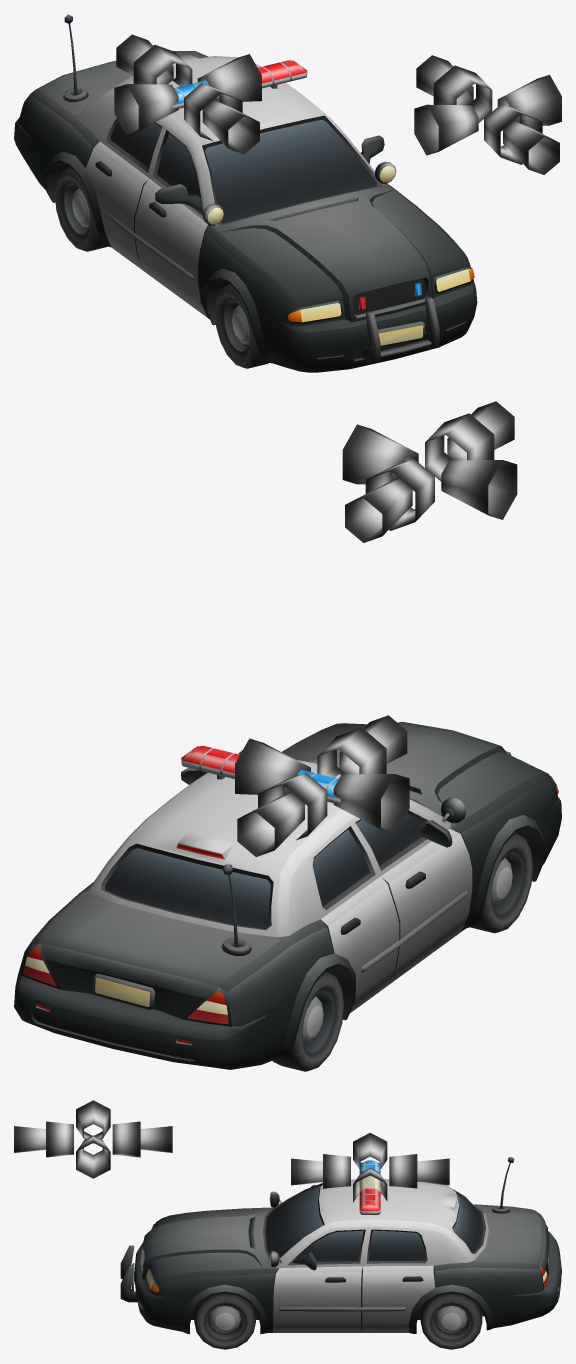
The model's file is Car_8D.fbx.
3 views of the same model, one above another, from view 1: azimuth 30°, elevation 25°; view 2: azimuth 150°, elevation 25°; view 3: azimuth 270°, elevation 25° (orthographic). The views are drawn at different scales.
Visible parts, largest first — view 1: Car_8D, Light_Red, Light_Blue, Wheel_8D_R.R, Wheel_8D_F.R; view 2: Car_8D, Light_Red, Light_Blue, Wheel_8D_R.R, Wheel_8D_F.R; view 3: Car_8D, Light_Red, Light_Blue, Wheel_8D_R.L, Wheel_8D_F.L.
Boxes of the visible parts, left/top/right/bottom form: Car_8D: left=14, top=51, right=477, bottom=372; Light_Red: left=414, top=55, right=561, bottom=174; Light_Blue: left=114, top=34, right=261, bottom=154; Wheel_8D_R.R: left=55, top=167, right=107, bottom=251; Wheel_8D_F.R: left=214, top=284, right=268, bottom=368; Car_8D: left=14, top=721, right=561, bottom=1069; Light_Red: left=342, top=401, right=517, bottom=542; Light_Blue: left=235, top=715, right=409, bottom=856; Wheel_8D_R.R: left=272, top=971, right=343, bottom=1071; Wheel_8D_F.R: left=470, top=833, right=533, bottom=933; Car_8D: left=120, top=1160, right=561, bottom=1334; Light_Red: left=14, top=1100, right=172, bottom=1178; Light_Blue: left=291, top=1133, right=449, bottom=1202; Wheel_8D_R.L: left=420, top=1293, right=482, bottom=1349; Wheel_8D_F.L: left=194, top=1293, right=255, bottom=1349.
Size of the model in its own units: 263 by 324 by 744.
